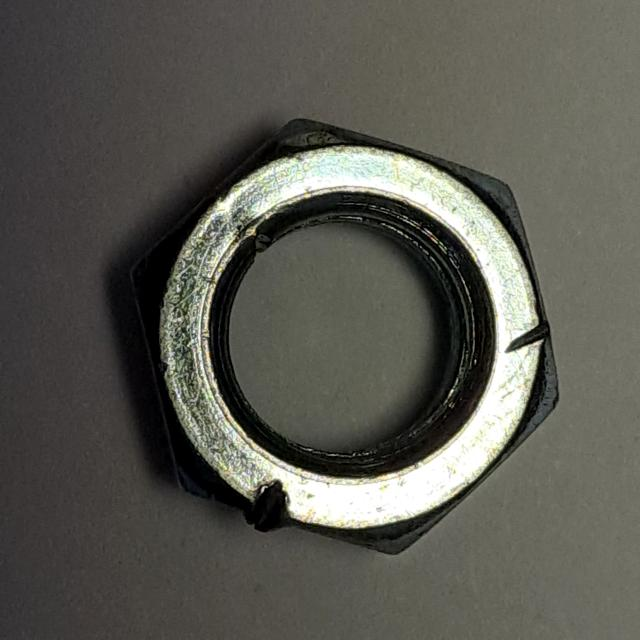Scratches: (111, 102, 573, 570)
